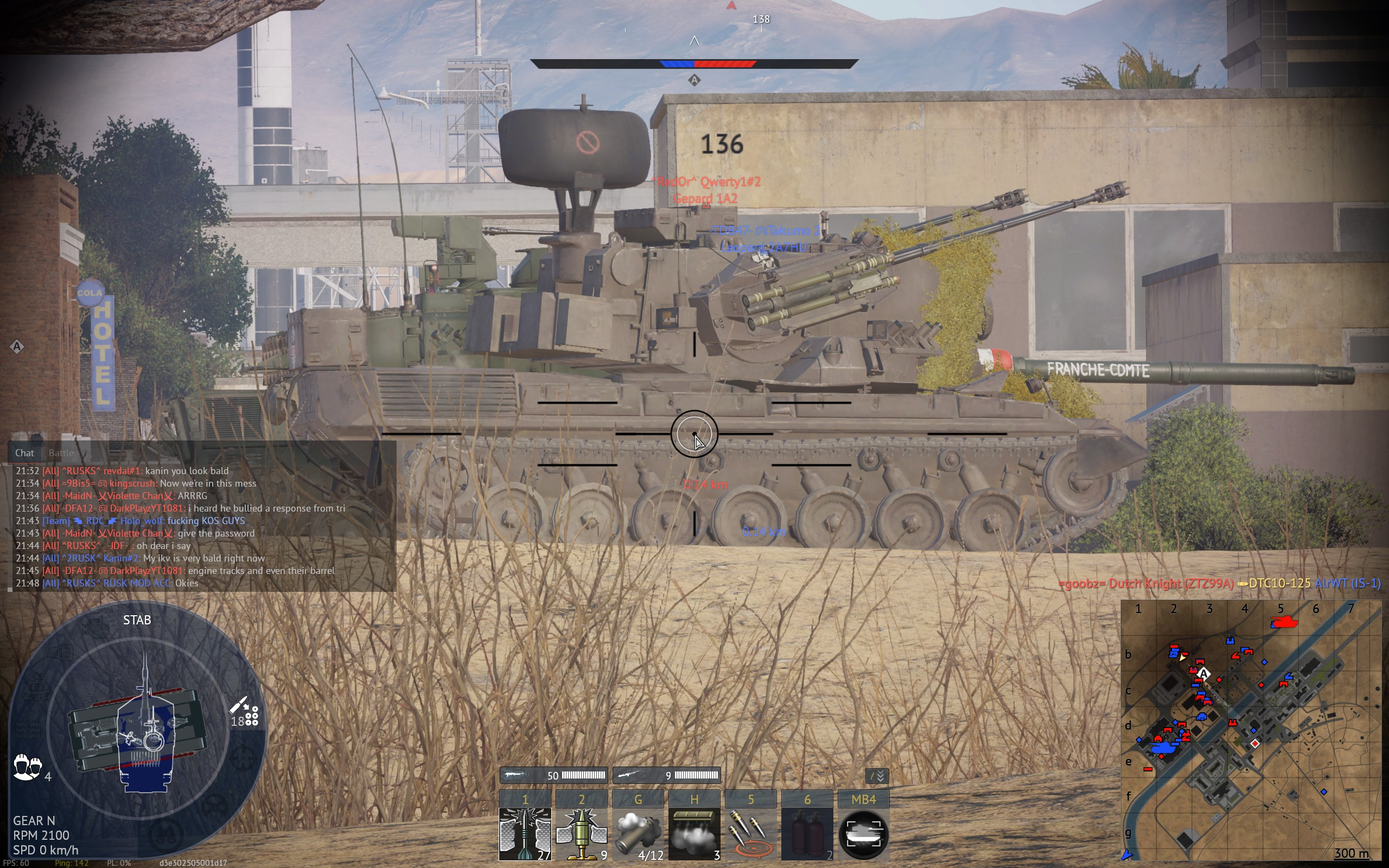spaa_gepard: (288, 93, 1155, 555)
